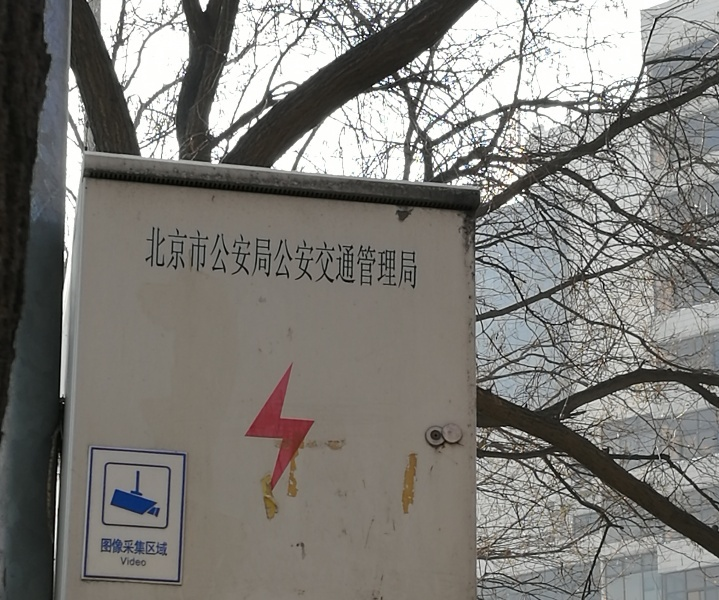text: (161, 223, 176, 292), (177, 223, 192, 292), (193, 223, 208, 292), (209, 223, 224, 292), (225, 223, 240, 292), (241, 223, 256, 292), (257, 223, 272, 292), (273, 223, 288, 292), (289, 223, 304, 292), (305, 223, 320, 292), (321, 223, 336, 292), (337, 223, 352, 292), (353, 223, 368, 292), (369, 223, 384, 292), (385, 223, 400, 292), (401, 223, 416, 292), (148, 223, 160, 292), (417, 223, 423, 292), (113, 537, 128, 557), (129, 537, 144, 557), (145, 537, 160, 557), (102, 537, 112, 557), (129, 557, 144, 568), (161, 537, 169, 557), (121, 557, 128, 568), (145, 557, 148, 568)
